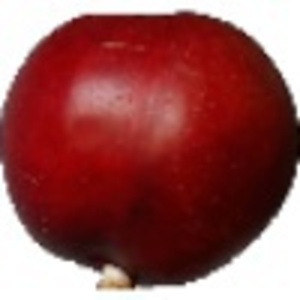nectarina: (1, 10, 300, 300)
